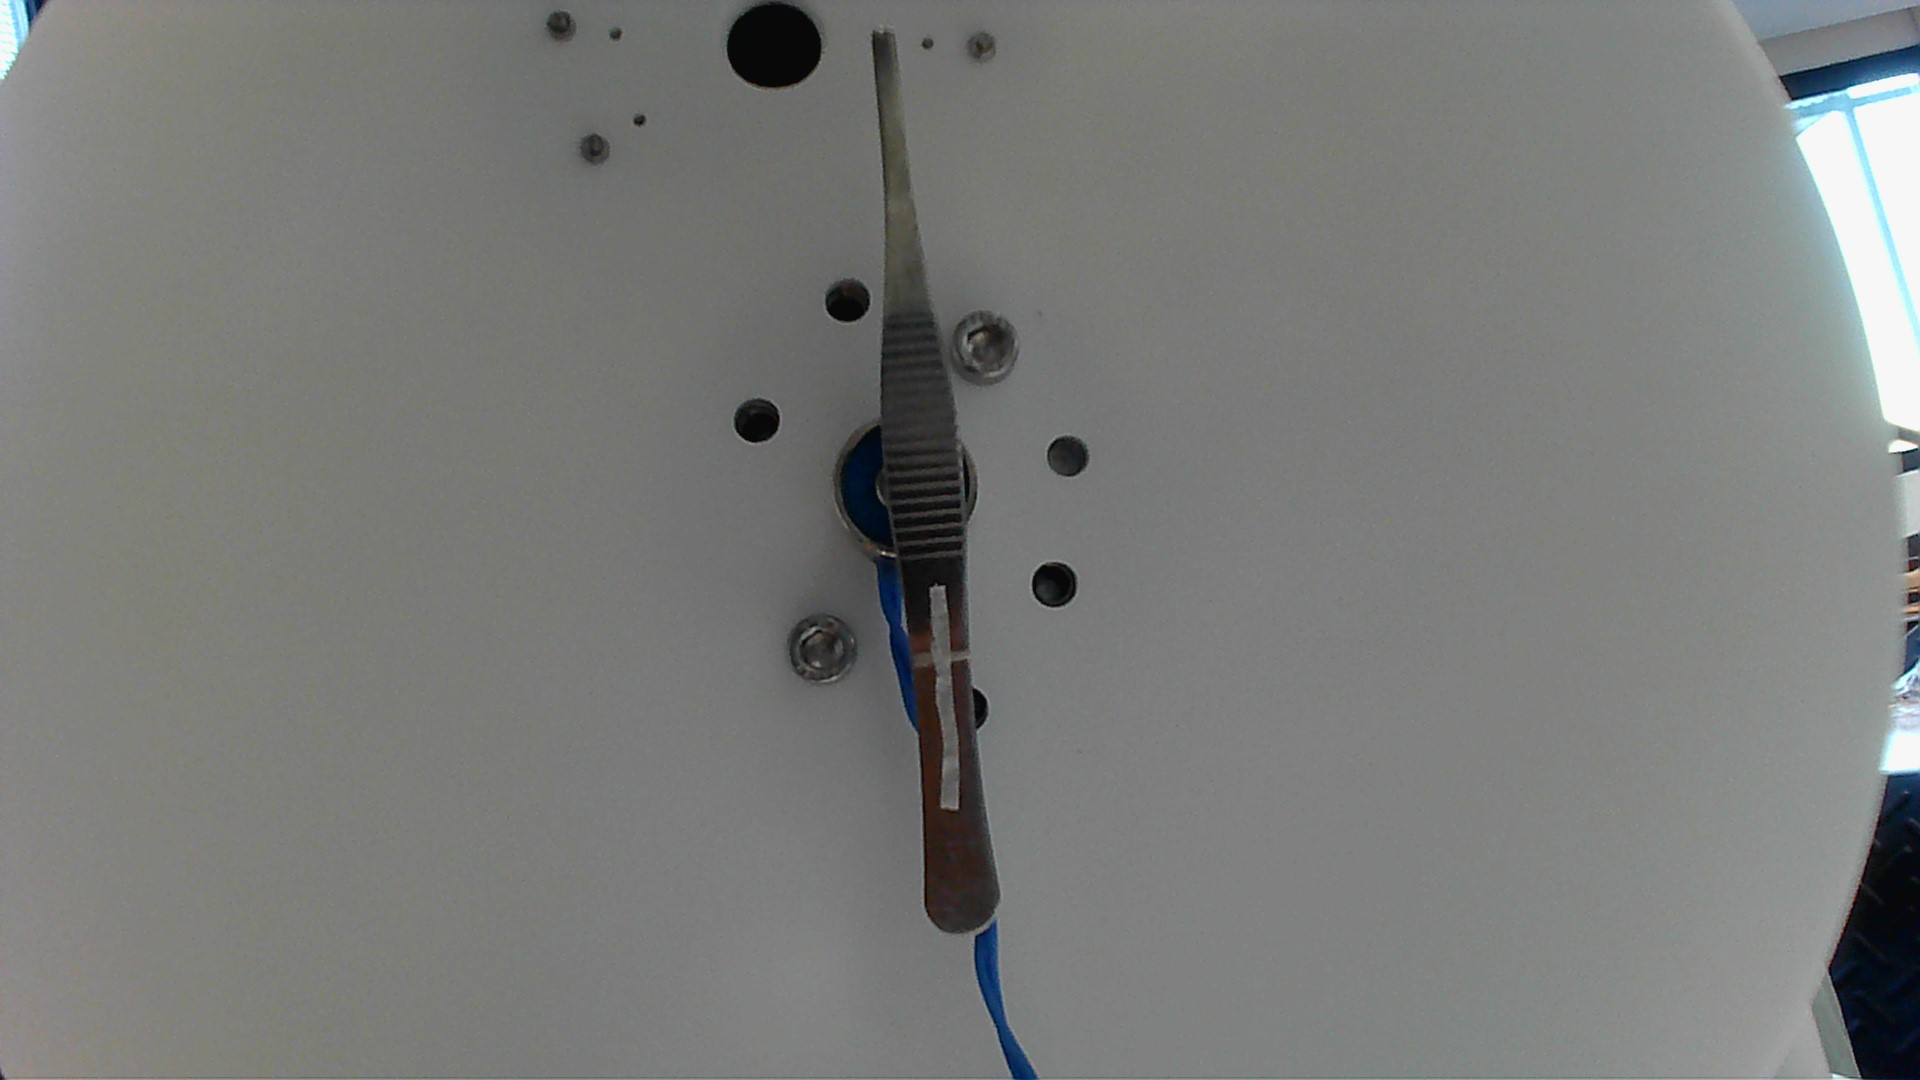Scratches: (922, 580, 963, 816)
